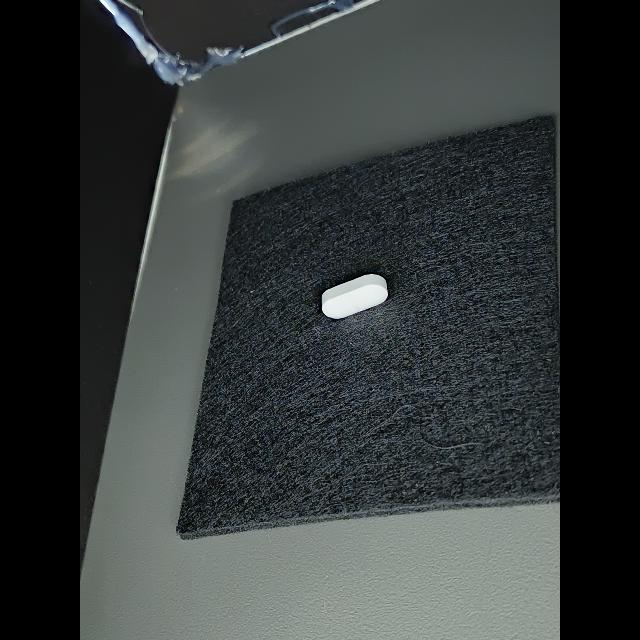Intact Pill: (322, 274, 388, 319)
